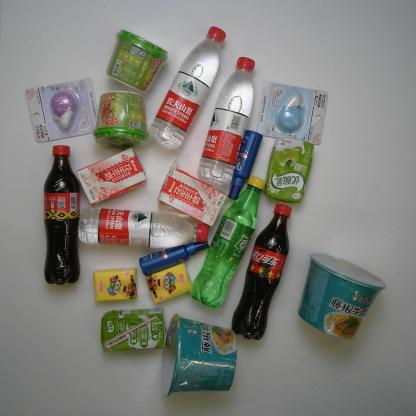Drink: (188, 175, 267, 310), (147, 24, 227, 151), (230, 202, 292, 342), (196, 56, 256, 185), (77, 204, 209, 250), (42, 144, 82, 286)
Instant Drink: (104, 28, 172, 96), (90, 90, 150, 150)
Instant Noodles: (296, 253, 387, 340), (160, 312, 238, 399)
Milk: (156, 158, 229, 230), (75, 146, 149, 208), (262, 136, 317, 206), (99, 306, 168, 352)
Personal Hygiene: (225, 129, 264, 202), (138, 239, 210, 277)
Stationery: (24, 78, 100, 144), (256, 81, 330, 146)
Tissue: (144, 261, 193, 305), (92, 266, 138, 302)
